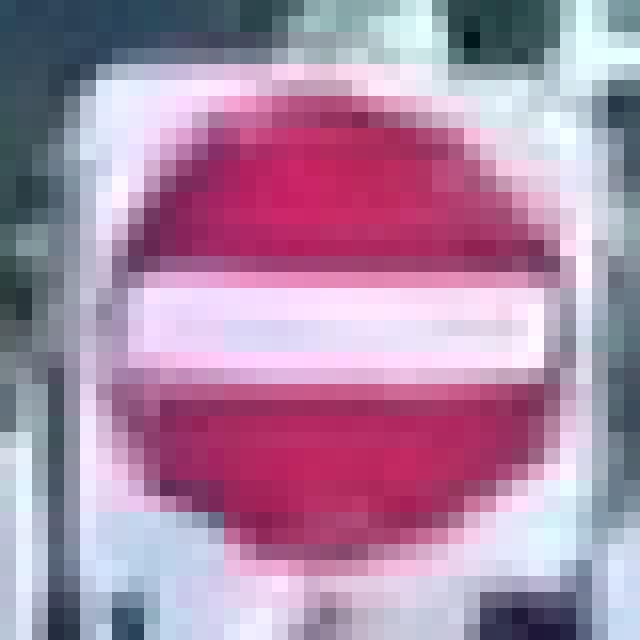noentry_sign: (80, 64, 576, 560)
